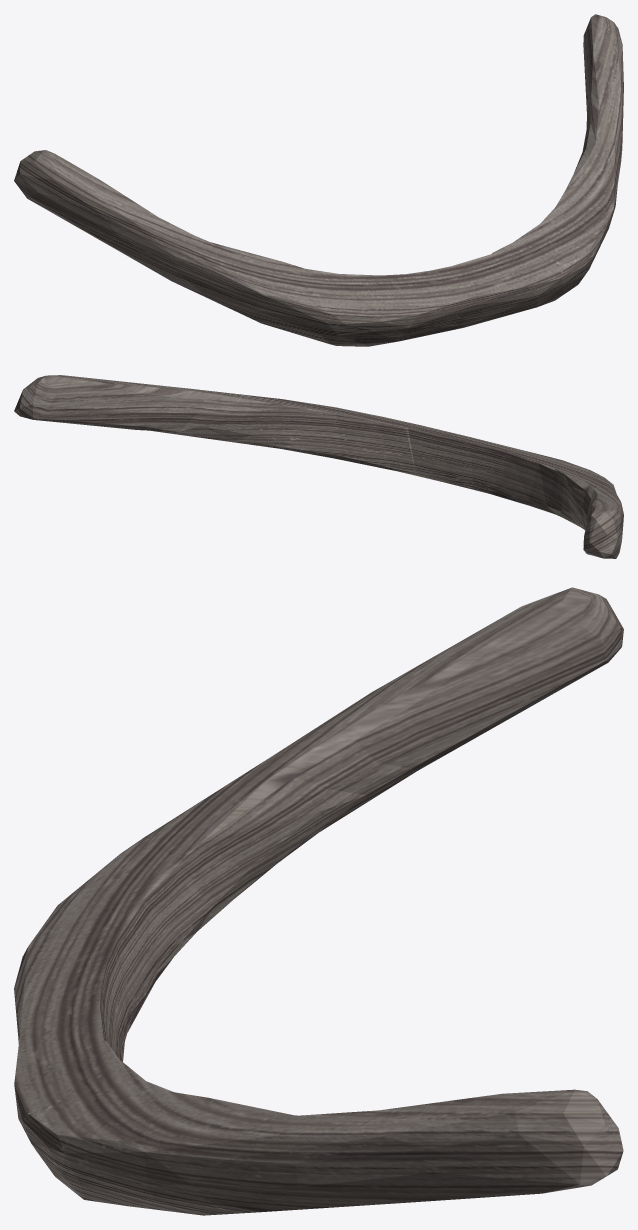
The model's file is Hyoid.obj.
The picture shows the model from 3 angles, top to bottom: view 1: azimuth 30°, elevation 25°; view 2: azimuth 150°, elevation 25°; view 3: azimuth 270°, elevation 25°; orthographic projection. The views are drawn at different scales.
Parts seen in each view (by area): view 1: Musculos_Cabeza_1:Hyoid1:Hyoid; view 2: Musculos_Cabeza_1:Hyoid1:Hyoid; view 3: Musculos_Cabeza_1:Hyoid1:Hyoid.
Part boxes in pixels (left/top/right/bottom): Musculos_Cabeza_1:Hyoid1:Hyoid: left=14, top=14, right=623, bottom=346; Musculos_Cabeza_1:Hyoid1:Hyoid: left=14, top=375, right=623, bottom=558; Musculos_Cabeza_1:Hyoid1:Hyoid: left=14, top=587, right=623, bottom=1215.
Bounding box in the file's own units: 0.1609 × 0.0364 × 0.0766.
1 material, 1 textured.
